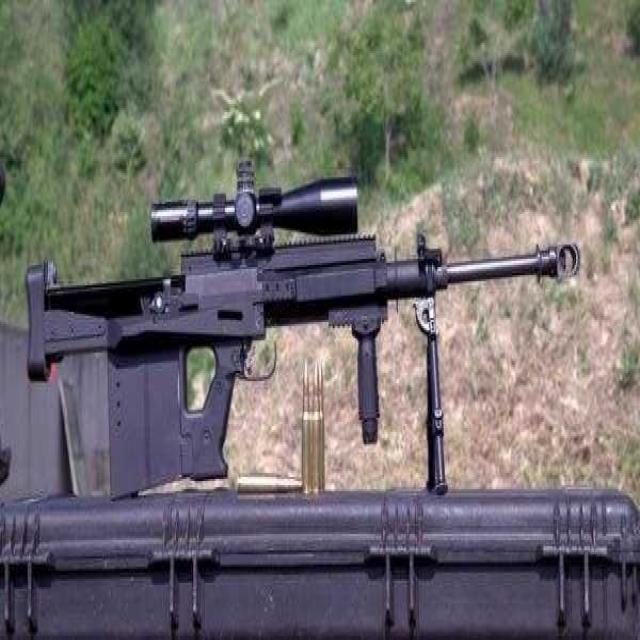weapon: (6, 88, 596, 526)
